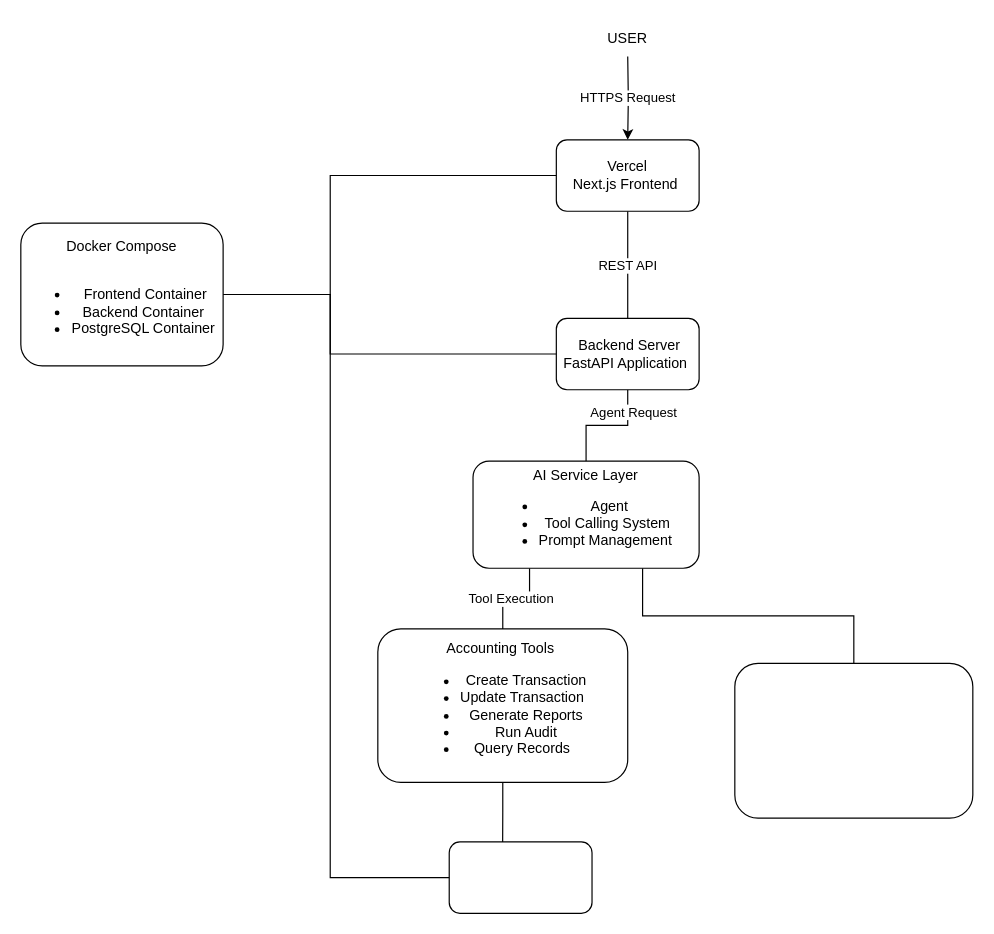
This 994x934 diagram has some shape labels left out. The centre of each missing label's shape, as x and y in pixels:
"External AI API LLM Processing Language Understanding Reasoning" belongs at point 853,740.
"PostgreSQL DB" belongs at point 520,877.
